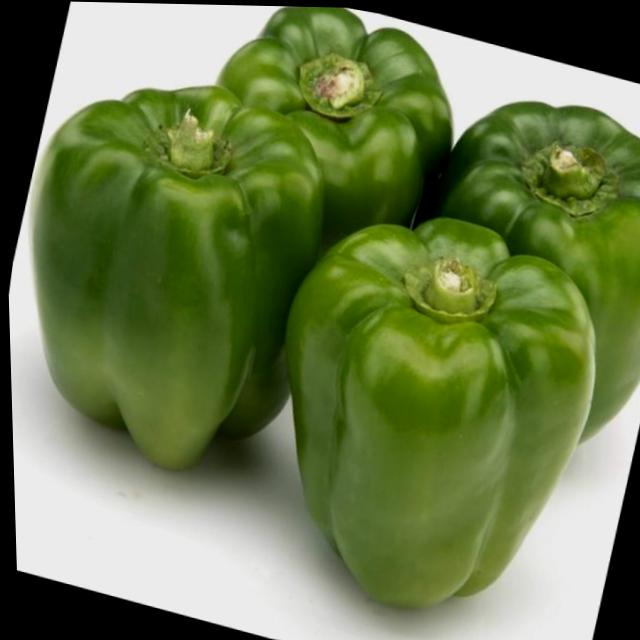Capsicum: (239, 191, 626, 640), (1, 59, 358, 487), (404, 79, 640, 450), (202, 4, 468, 211)
